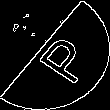P_NW: (20, 25, 90, 85)
